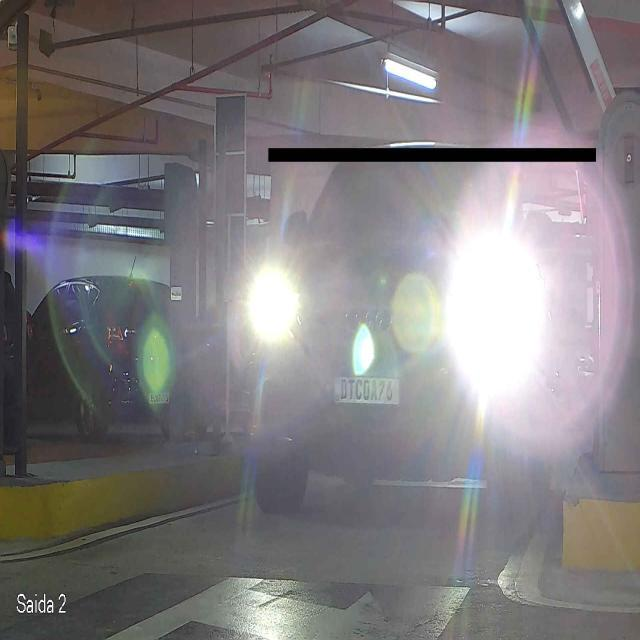mercosul_plate: (332, 371, 402, 407)
